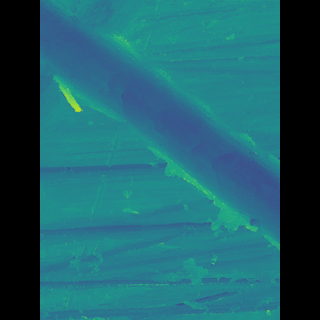Loch: (69, 0, 250, 253)
